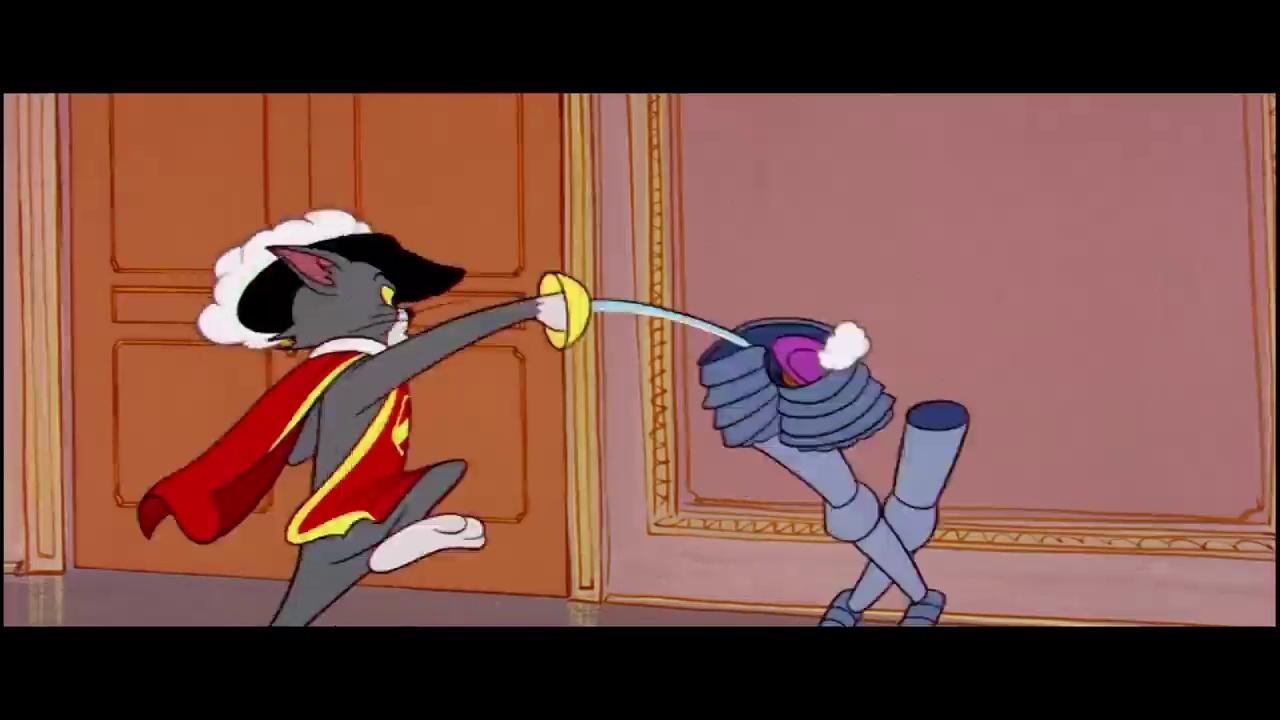Tom: (221, 241, 568, 627)
